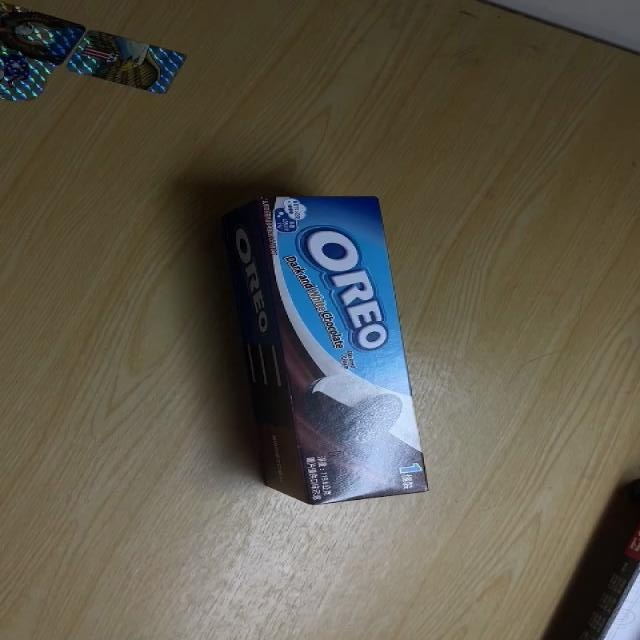Oreo: (228, 195, 434, 509)
